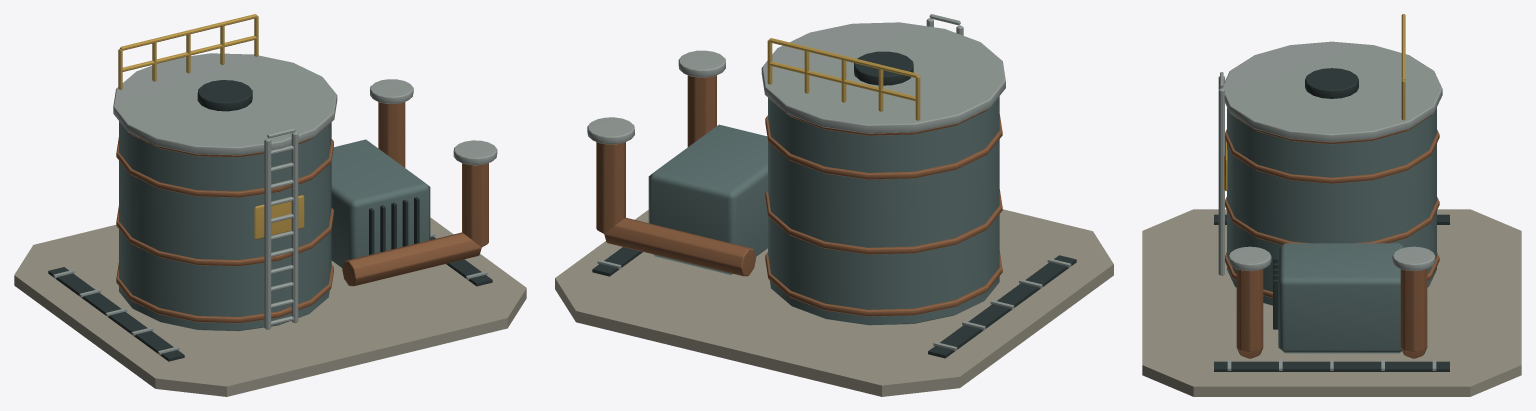
File: PumpStation.glb
The picture shows the model from 3 angles, left to right: view 1: azimuth 30°, elevation 25°; view 2: azimuth 150°, elevation 25°; view 3: azimuth 270°, elevation 25°; orthographic projection. The views are drawn at different scales.
Parts seen in each view (by area): view 1: Service foundation, Water reservoir, Tank lid, Pump housing, Feed pipe, Pipe riser, Drainage slot, Pipe riser.001, Tank band, Tank band.001, Tank band.002, Ladder rail (+8 smaller); view 2: Service foundation, Water reservoir, Tank lid, Pump housing, Feed pipe.001, Pipe riser.001, Drainage slot, Tank band.002, Tank band.001, Tank band, Pipe riser, Inspection hatch (+6 smaller); view 3: Service foundation, Water reservoir, Tank lid, Pump housing, Drainage slot.001, Pipe riser, Pipe riser.001, Tank band.002, Inspection hatch, Ladder rail.001, Tank band.001, Valve flange (+2 smaller).
Part boxes in pixels (x1,y1,x2,y2): Service foundation: (14, 217, 526, 396); Water reservoir: (119, 121, 331, 331); Tank lid: (113, 53, 337, 155); Pump housing: (331, 139, 430, 268); Feed pipe: (342, 232, 481, 286); Pipe riser: (462, 163, 488, 247); Drainage slot: (48, 267, 184, 361); Pipe riser.001: (378, 102, 405, 167); Tank band: (116, 263, 333, 323); Tank band.001: (116, 206, 333, 266); Tank band.002: (116, 137, 333, 197); Ladder rail: (264, 138, 271, 329); Service foundation: (555, 209, 1113, 396); Water reservoir: (768, 96, 999, 325); Tank lid: (761, 22, 1005, 133); Pump housing: (648, 124, 767, 274); Feed pipe.001: (604, 217, 756, 276); Pipe riser.001: (596, 142, 625, 233); Drainage slot: (928, 255, 1076, 358); Tank band.002: (765, 114, 1002, 179); Tank band.001: (765, 189, 1002, 254); Tank band: (765, 251, 1002, 316); Pipe riser: (687, 75, 716, 146); Inspection hatch: (854, 51, 913, 85); Service foundation: (1142, 209, 1521, 396); Water reservoir: (1227, 107, 1436, 305); Tank lid: (1222, 41, 1442, 142); Pump housing: (1278, 243, 1403, 353); Drainage slot.001: (1214, 361, 1449, 371); Pipe riser: (1236, 269, 1263, 352); Pipe riser.001: (1400, 269, 1427, 352); Tank band.002: (1225, 129, 1439, 183); Inspection hatch: (1305, 68, 1358, 98); Ladder rail.001: (1218, 88, 1224, 275); Tank band.001: (1225, 197, 1439, 245); Valve flange: (1228, 246, 1271, 270).
Bounding box in the file's own units: 8.2 × 5.18 × 7.4.
